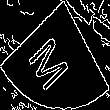M_NE: (30, 21, 80, 89)
